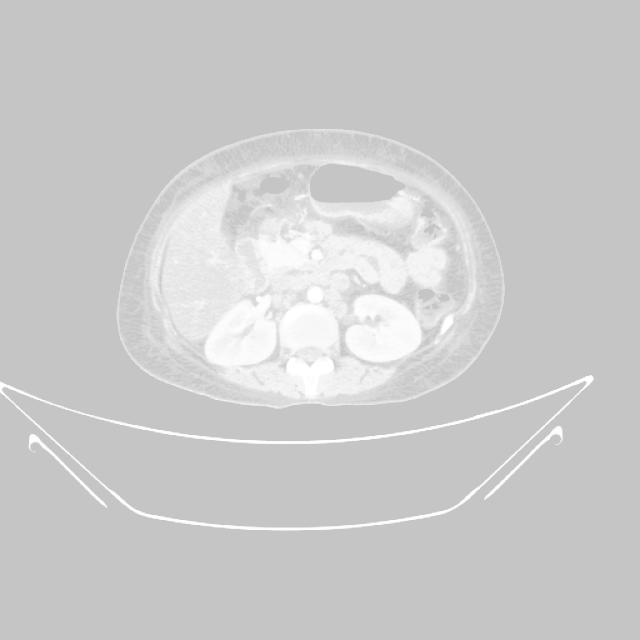NORMAL: (95, 123, 510, 431)
